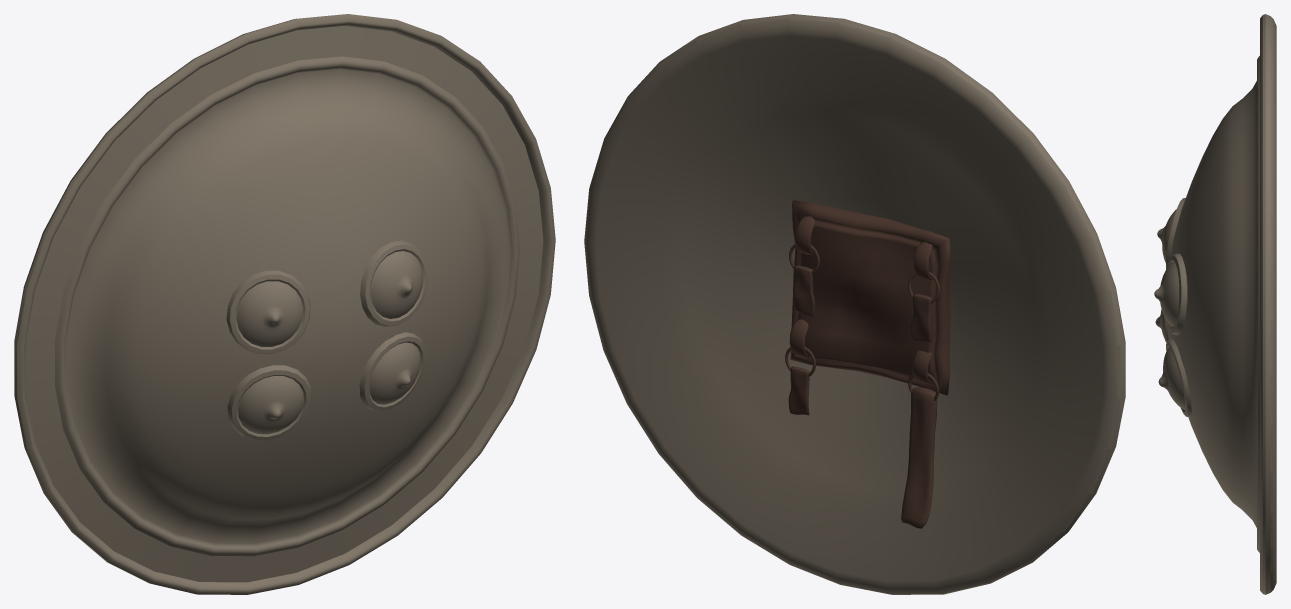
The model's file is Sihk_Shield_01.fbx.
The picture shows the model from 3 angles, left to right: view 1: azimuth 30°, elevation 25°; view 2: azimuth 150°, elevation 25°; view 3: azimuth 270°, elevation 25°; orthographic projection. The views are drawn at different scales.
Parts seen in each view (by area): view 1: Shield_Geo; view 2: Shield_Geo, Harness_Geo; view 3: Shield_Geo.
Boxes of the visible parts, left/top/right/bottom form: Shield_Geo: left=14, top=14, right=555, bottom=594; Shield_Geo: left=584, top=14, right=1125, bottom=594; Harness_Geo: left=785, top=200, right=951, bottom=528; Shield_Geo: left=1154, top=14, right=1276, bottom=594.
Size of the model in its own units: 1.57 by 1.57 by 0.3306.
